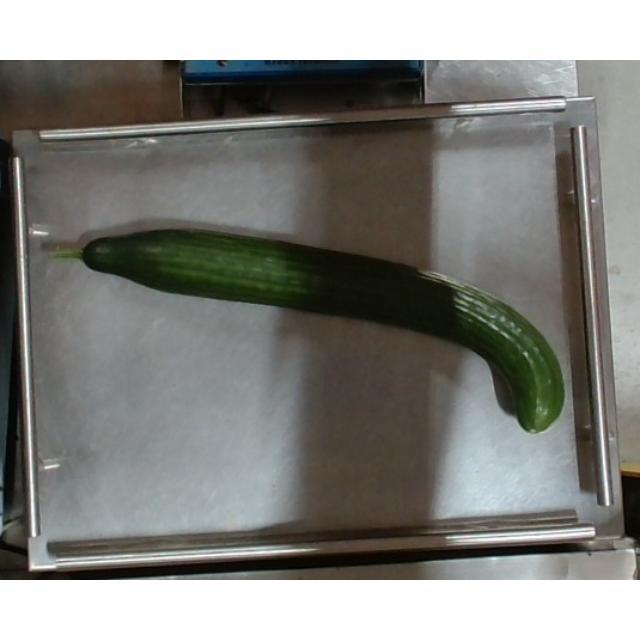cucumber: (82, 227, 566, 438)
